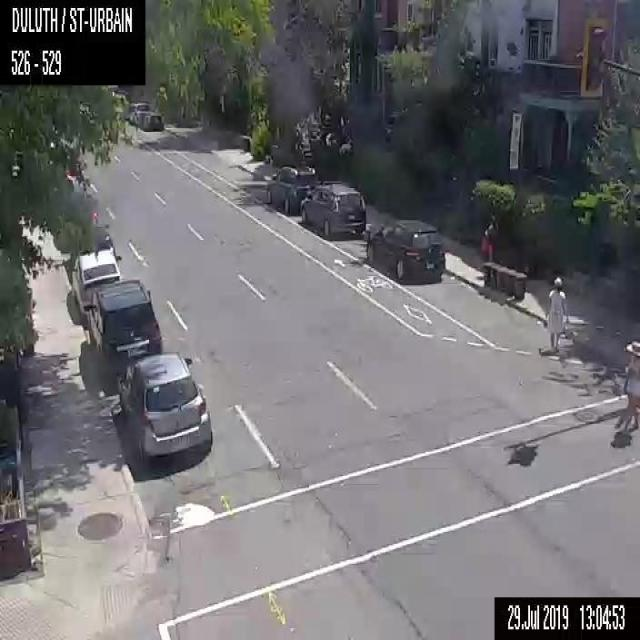construction: (481, 235, 486, 252), (488, 243, 492, 260)
pedestrian: (544, 276, 566, 353), (621, 340, 639, 429)
vehicle: (118, 351, 212, 461), (83, 277, 164, 373), (364, 217, 444, 279), (300, 180, 366, 238), (71, 246, 122, 321), (264, 165, 318, 216), (142, 112, 164, 131)
